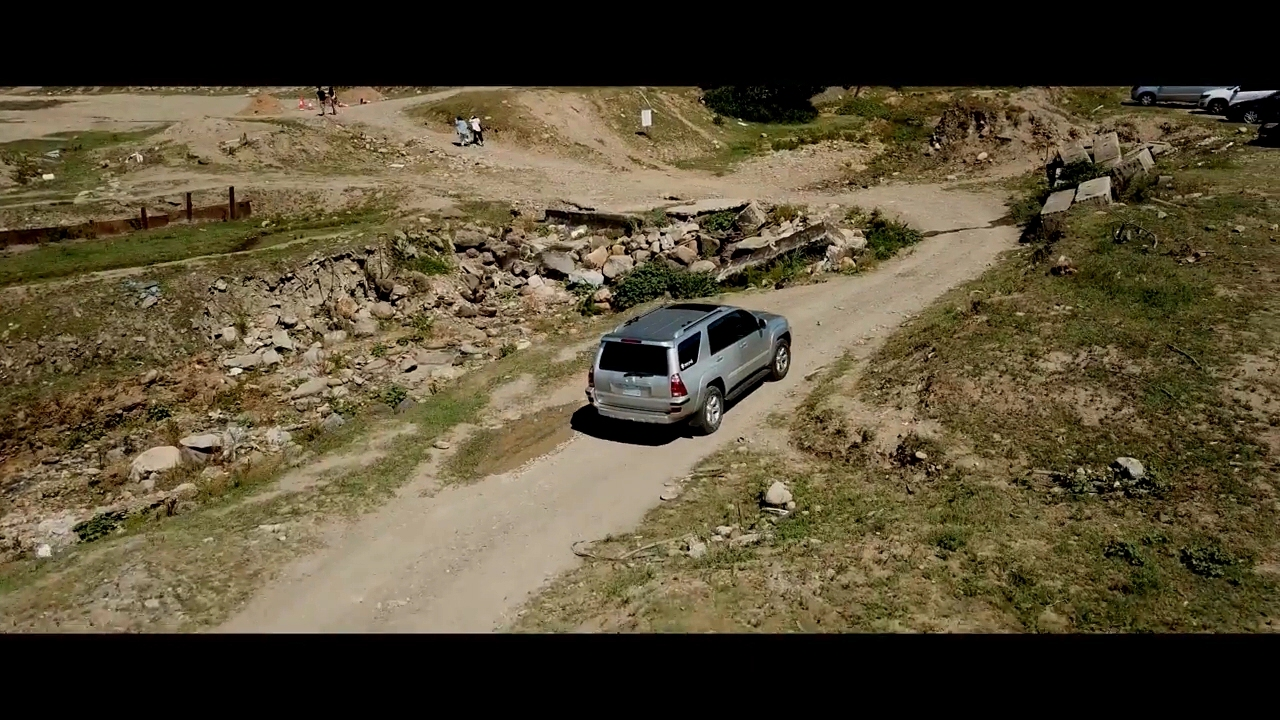araba: (582, 299, 792, 431)
insan: (455, 114, 472, 148), (470, 113, 482, 150)
